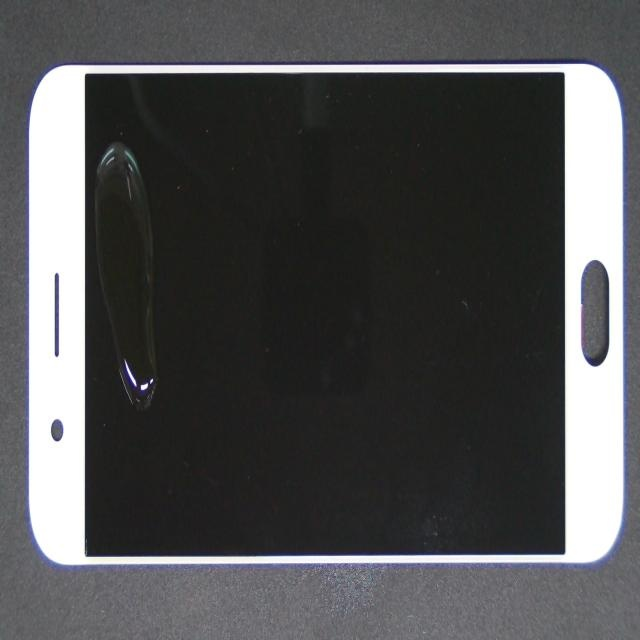oil: (40, 133, 180, 546)
